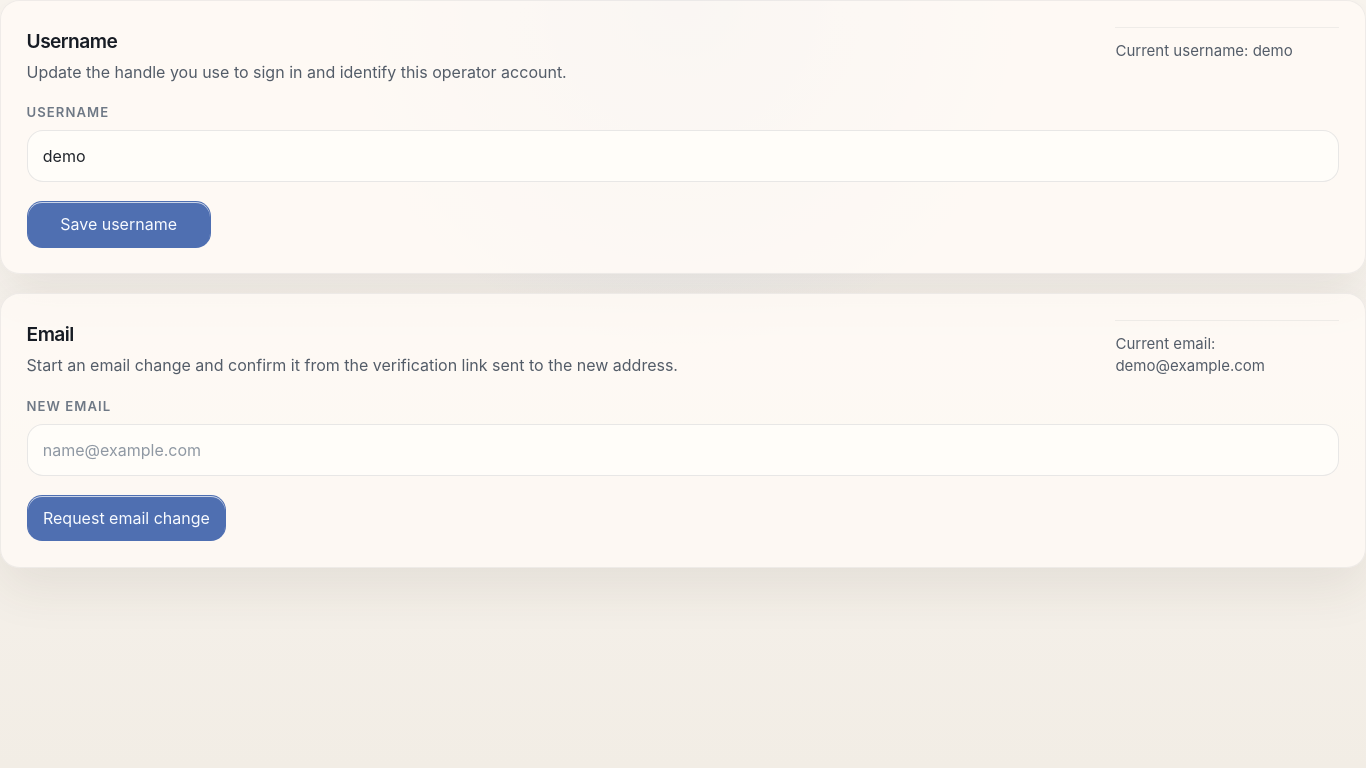
Scenario: AccountSettingsSection › shows a username api error in the shared status area
Click the button "Save username".
click(119, 224)  # box x1=27 y1=201 x2=211 y2=248
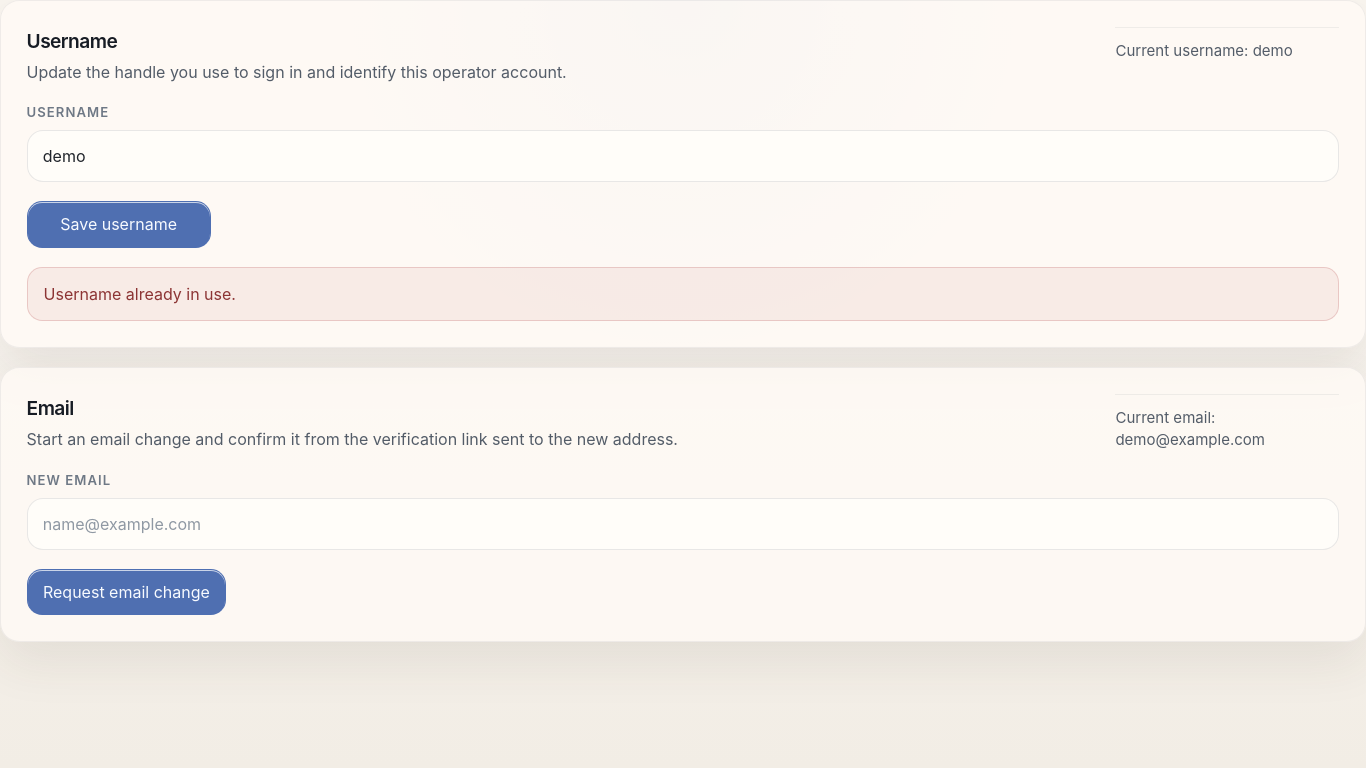
Now the message reads "Username already in use.", box x1=44 y1=284 x2=236 y2=304
